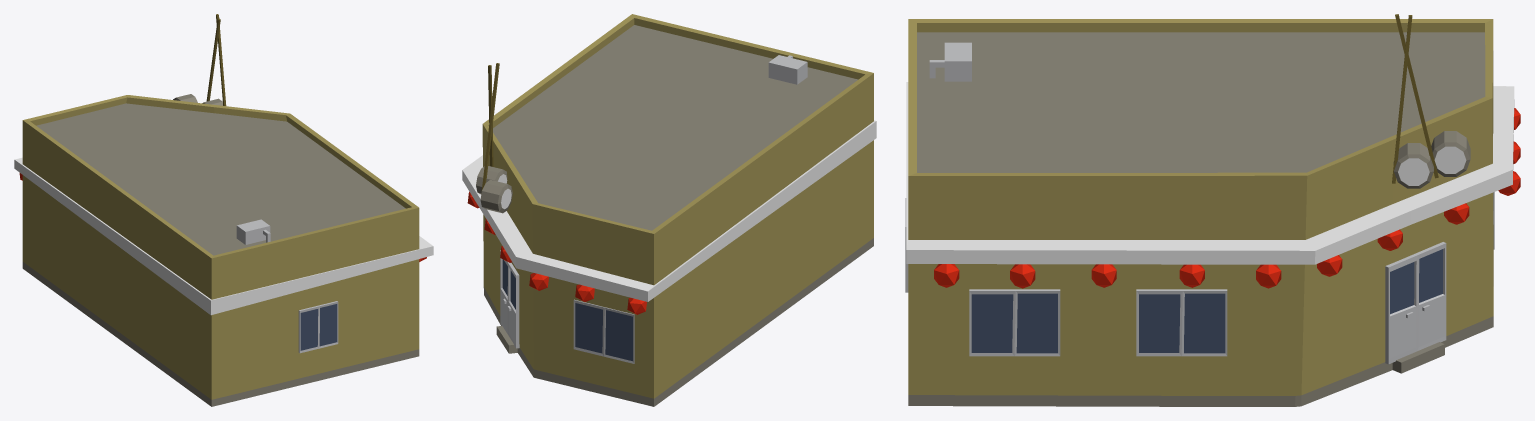
File: sushi.gltf
The picture shows the model from 3 angles, left to right: view 1: azimuth 30°, elevation 25°; view 2: azimuth 150°, elevation 25°; view 3: azimuth 270°, elevation 25°; orthographic projection. The views are drawn at different scales.
Parts seen in each view (by area): view 1: Cube.011; view 2: Cube.011; view 3: Cube.011.
Boxes of the visible parts, x1=… form: Cube.011: x1=14, y1=14, x2=433, y2=406; Cube.011: x1=462, y1=14, x2=876, y2=406; Cube.011: x1=905, y1=14, x2=1520, y2=406.
Bounding box in the file's own units: 1.53 × 1.49 × 2.3.
